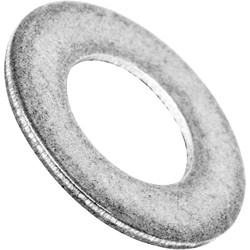flat washer: (1, 1, 249, 249)
